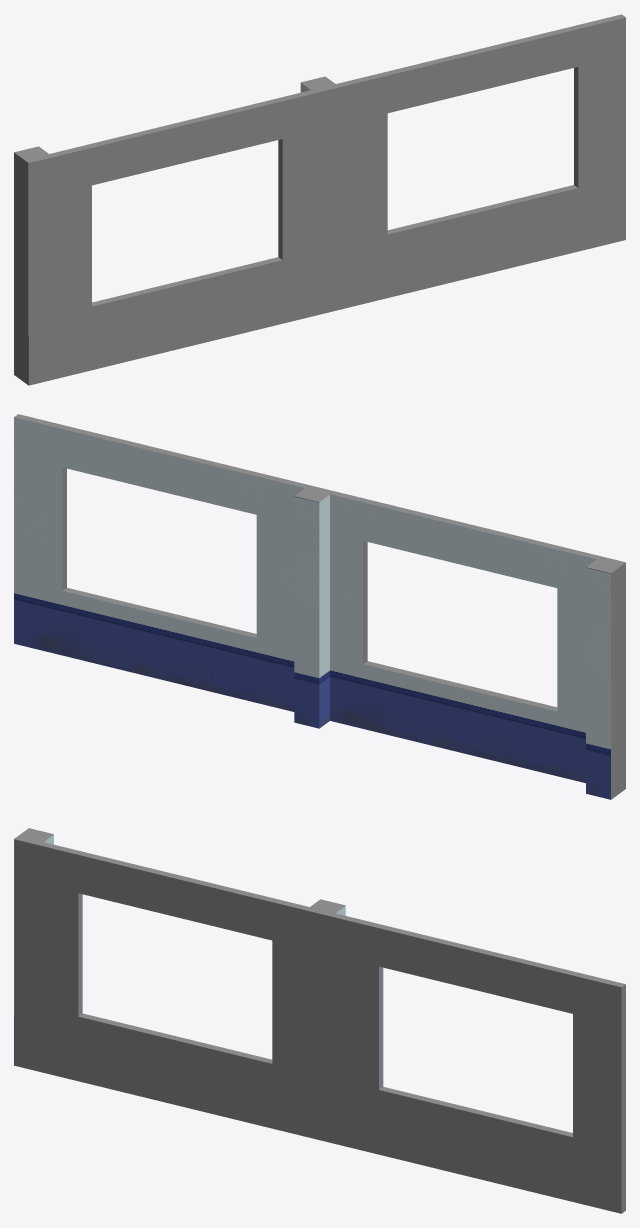
Rendered from Wall 4.FBX.
3 views of the same model, one above another, from view 1: azimuth 30°, elevation 25°; view 2: azimuth 150°, elevation 25°; view 3: azimuth 330°, elevation 25° (orthographic).
Parts seen in each view (by area): view 1: wall 4; view 2: wall 4; view 3: wall 4.
Part boxes in pixels (left/top/right/bottom): wall 4: left=14, top=14, right=625, bottom=385; wall 4: left=14, top=414, right=625, bottom=799; wall 4: left=14, top=828, right=625, bottom=1213.
Size of the model in its own units: 733 by 261 by 31.47.
